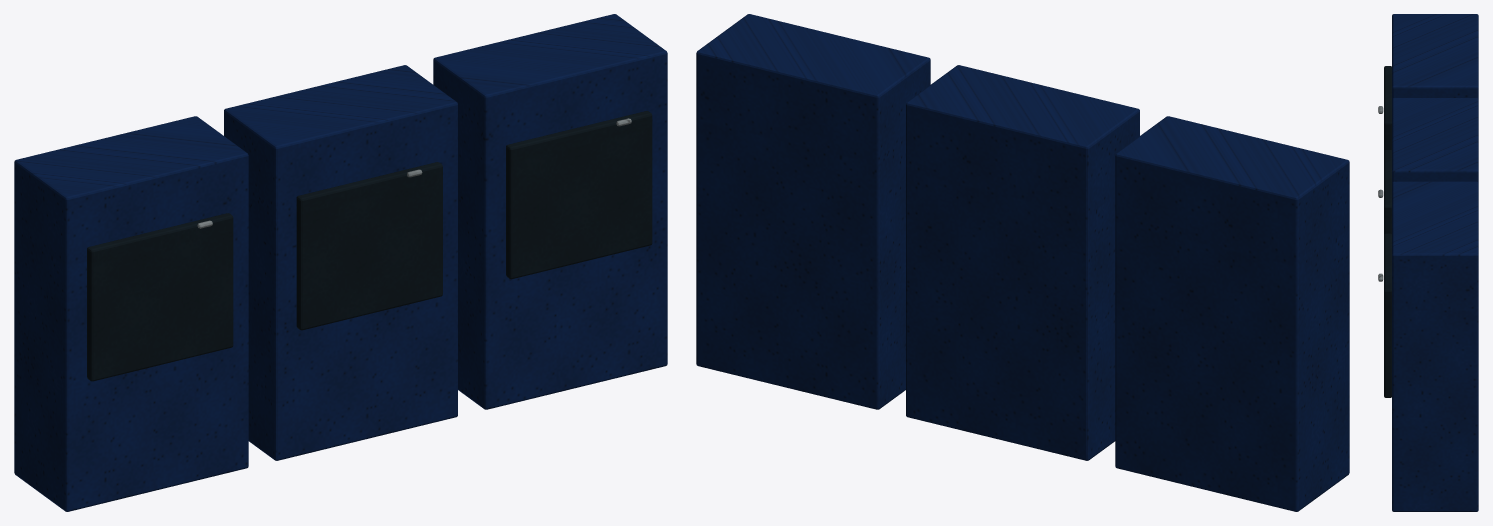
File: PROP-C33DE3A76E7C_lod0.glb
The picture shows the model from 3 angles, left to right: view 1: azimuth 30°, elevation 25°; view 2: azimuth 150°, elevation 25°; view 3: azimuth 270°, elevation 25°; orthographic projection. The views are drawn at different scales.
Parts seen in each view (by area): view 1: cabinet.004, recessed_front.004; view 2: cabinet.004; view 3: cabinet.004, recessed_front.004.
Boxes of the visible parts, bbox=[...] form: cabinet.004: bbox=[14, 14, 667, 511]; recessed_front.004: bbox=[87, 111, 652, 381]; cabinet.004: bbox=[696, 14, 1349, 511]; cabinet.004: bbox=[1392, 14, 1478, 511]; recessed_front.004: bbox=[1384, 66, 1391, 397].
Bounding box in the file's own units: 2.3 × 1.15 × 0.405.
3 materials, 3 textured.
